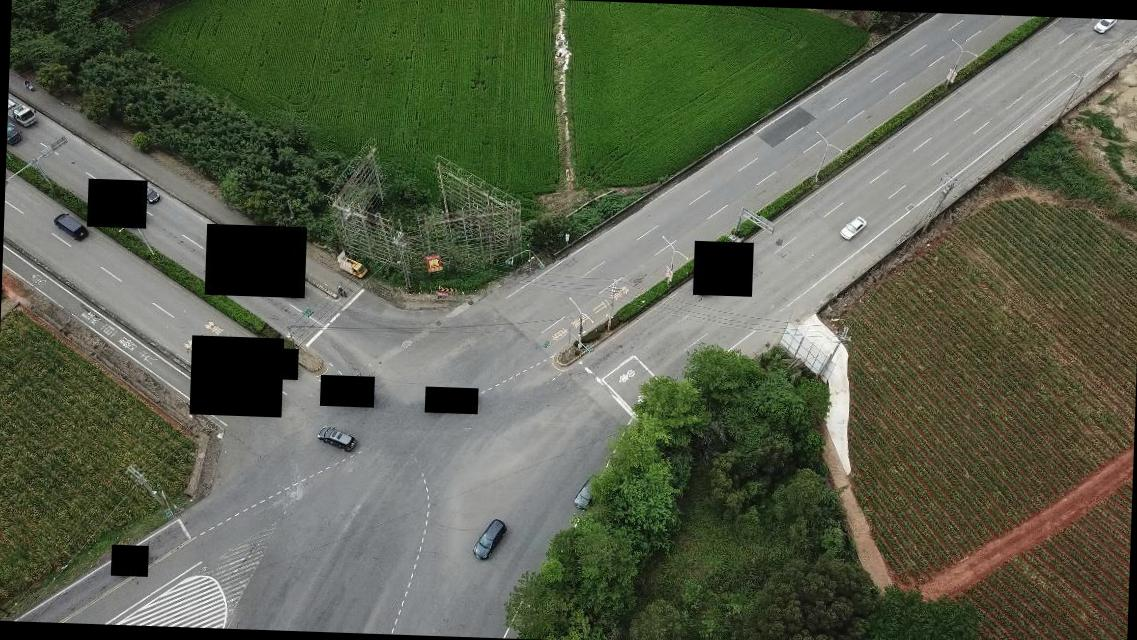vehicle: (474, 516, 505, 560), (50, 212, 88, 243), (316, 426, 357, 454), (574, 474, 604, 511), (128, 178, 159, 204), (839, 214, 867, 242), (336, 258, 365, 278), (1092, 19, 1120, 35)
